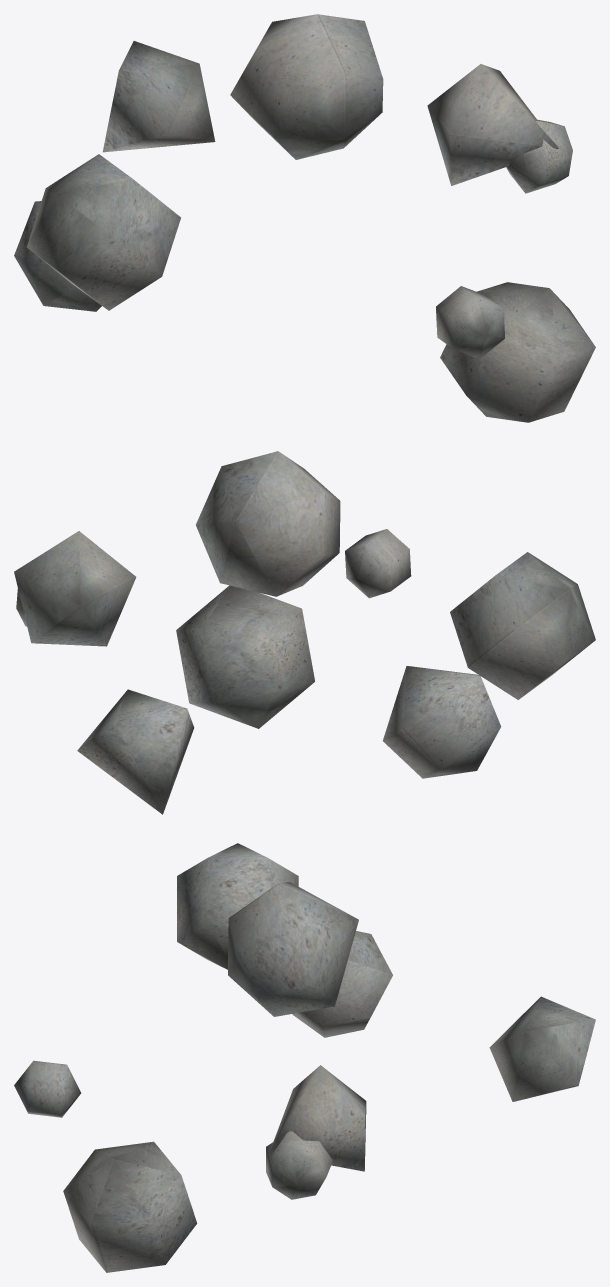
Rendered from stone3.obj.
3 views of the same model, one above another, from view 1: azimuth 30°, elevation 25°; view 2: azimuth 150°, elevation 25°; view 3: azimuth 270°, elevation 25° (orthographic). The views are drawn at different scales.
Parts seen in each view (by area): view 1: Sphere005, Sphere001, Sphere008, Sphere007, Sphere003, Sphere002, Sphere004, Sphere006; view 2: Sphere005, Sphere008, Sphere001, Sphere004, Sphere003, Sphere007, Sphere002; view 3: Sphere005, Sphere008, Sphere001, Sphere007, Sphere003, Sphere004, Sphere006, Sphere002.
Part boxes in pixels (box(x1,y1,x2,y2)): Sphere005: box(230, 14, 383, 159); Sphere001: box(27, 154, 180, 310); Sphere008: box(440, 282, 595, 422); Sphere007: box(102, 41, 215, 152); Sphere003: box(427, 64, 558, 185); Sphere002: box(436, 286, 504, 358); Sphere004: box(14, 201, 101, 311); Sphere006: box(506, 119, 572, 193); Sphere005: box(196, 451, 340, 596); Sphere008: box(176, 585, 314, 728); Sphere001: box(450, 552, 595, 699); Sphere004: box(383, 666, 501, 778); Sphere003: box(14, 531, 136, 646); Sphere007: box(77, 689, 194, 814); Sphere002: box(345, 529, 411, 598); Sphere005: box(228, 882, 358, 1016); Sphere008: box(63, 1141, 197, 1272); Sphere001: box(177, 843, 298, 969); Sphere007: box(489, 996, 595, 1101); Sphere003: box(269, 1065, 366, 1171); Sphere004: box(292, 931, 392, 1037); Sphere006: box(266, 1131, 332, 1199); Sphere002: box(14, 1060, 81, 1117).
Bounding box in the file's own units: 118 × 75.03 × 120.
Materials: 1 (1 with a texture image).
